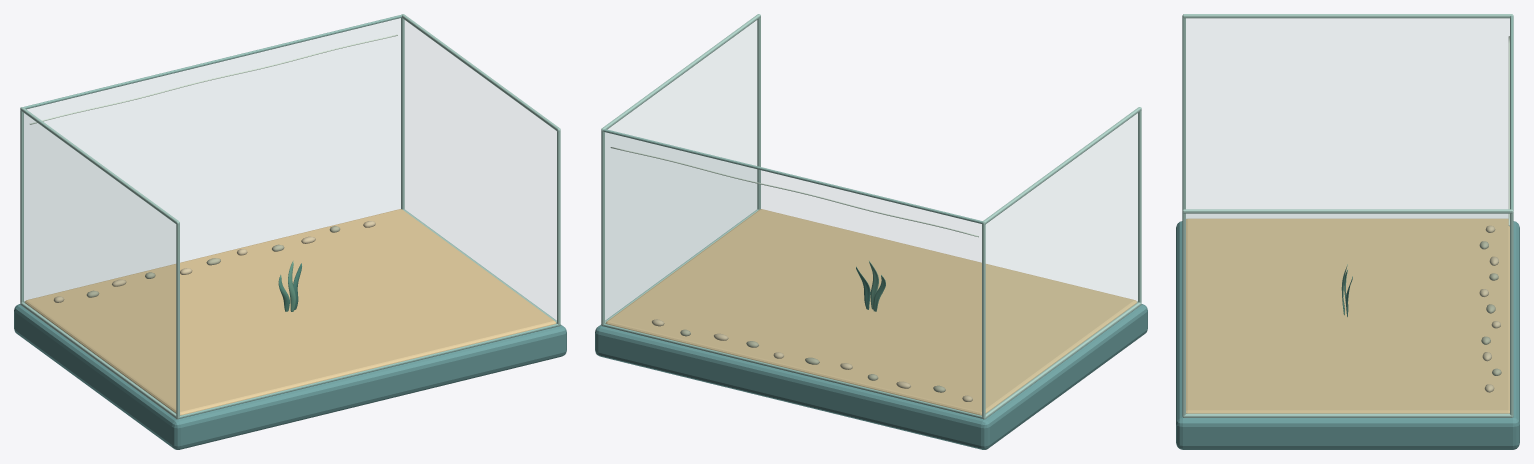
The model's file is environment-english.glb.
3 views of the same model, side by side, from view 1: azimuth 30°, elevation 25°; view 2: azimuth 150°, elevation 25°; view 3: azimuth 270°, elevation 25° (orthographic). The views are drawn at different scales.
Parts seen in each view (by area): view 1: static-environment-organic, static-environment-wood, static-environment-glass, aquatic-sprig-organic; view 2: static-environment-organic, static-environment-wood, static-environment-glass, aquatic-sprig-organic; view 3: static-environment-organic, static-environment-wood, static-environment-glass.
Part boxes in pixels (x1,y1,x2,y2): static-environment-organic: (24,34,556,415); static-environment-wood: (14,14,566,449); static-environment-glass: (24,113,175,301); aquatic-sprig-organic: (278,261,301,311); static-environment-organic: (605,147,1137,415); static-environment-wood: (595,14,1147,449); static-environment-glass: (605,132,758,321); aquatic-sprig-organic: (856,261,885,311); static-environment-organic: (1186,36,1509,413); static-environment-wood: (1176,14,1519,449); static-environment-glass: (1186,214,1508,218).
Size of the model in its own units: 8.9 by 4.91 by 6.4.
